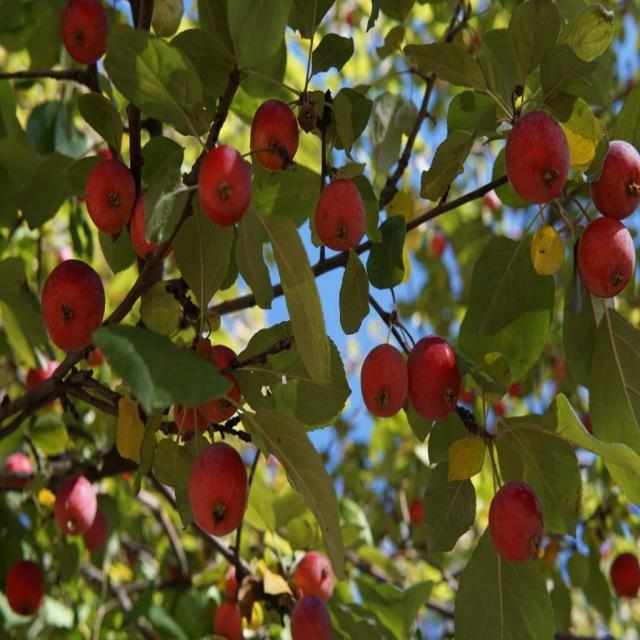Red Apple: (510, 118, 571, 197), (47, 266, 107, 345), (580, 212, 634, 296), (193, 452, 248, 530), (488, 487, 542, 565), (409, 340, 462, 416), (200, 147, 250, 220), (319, 184, 373, 249), (88, 162, 133, 229), (203, 350, 246, 417), (598, 144, 639, 210), (366, 347, 409, 409), (65, 4, 110, 63), (253, 102, 299, 159), (130, 191, 167, 250), (297, 553, 337, 605), (7, 563, 42, 620), (57, 481, 95, 529), (297, 598, 333, 640), (613, 555, 640, 600), (6, 456, 31, 496), (33, 362, 57, 402), (216, 607, 241, 635)
